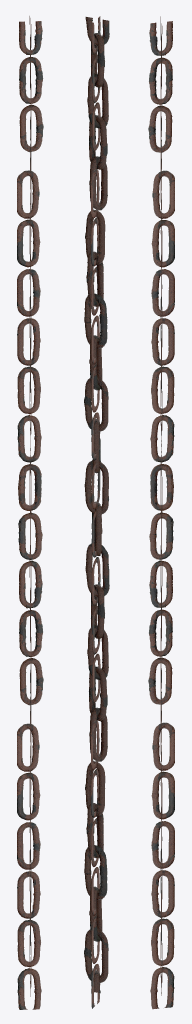
The model's file is SM_Chateaux_04_Chain_00.fbx.
3 renders of one model, left to right at view 1: azimuth 90°, elevation 25°; view 2: azimuth 150°, elevation 25°; view 3: azimuth 270°, elevation 25°, orthographic.
Parts seen in each view (by area): view 1: SM_Chateaux_04_Chain_00; view 2: SM_Chateaux_04_Chain_00; view 3: SM_Chateaux_04_Chain_00.
Part boxes in pixels (x1,y1,x2,y2): SM_Chateaux_04_Chain_00: (17, 16, 43, 1009); SM_Chateaux_04_Chain_00: (84, 16, 109, 1008); SM_Chateaux_04_Chain_00: (148, 16, 174, 1009).
Size of the model in its own units: 42.19 by 1527 by 41.84.
